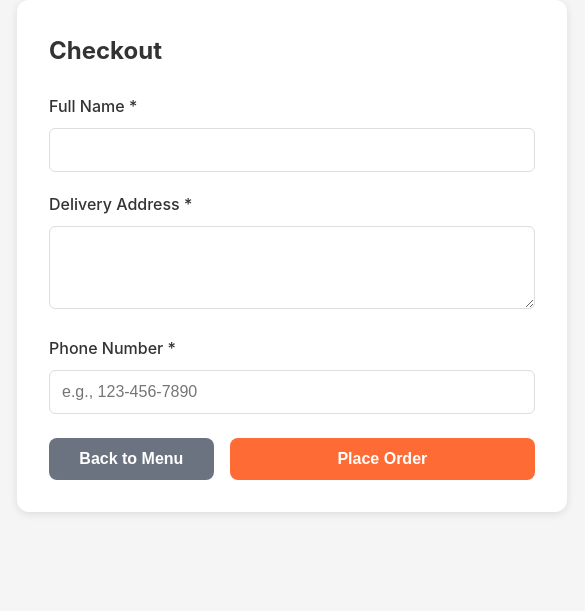
Scenario: CheckoutForm › shows validation errors for empty fields
The width and height of the screenshot is (585, 611).
Click the button "Place Order": [382, 459] box x1=230 y1=438 x2=535 y2=480
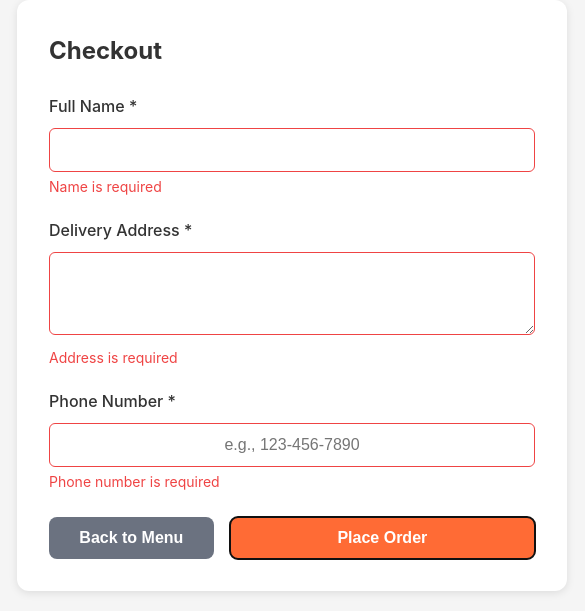
Now the text "Name is required" is shown, box x1=49 y1=178 x2=162 y2=195
Now the text "Address is required" is shown, box x1=49 y1=349 x2=178 y2=366
Now the text "Phone number is required" is shown, box x1=49 y1=472 x2=220 y2=490
